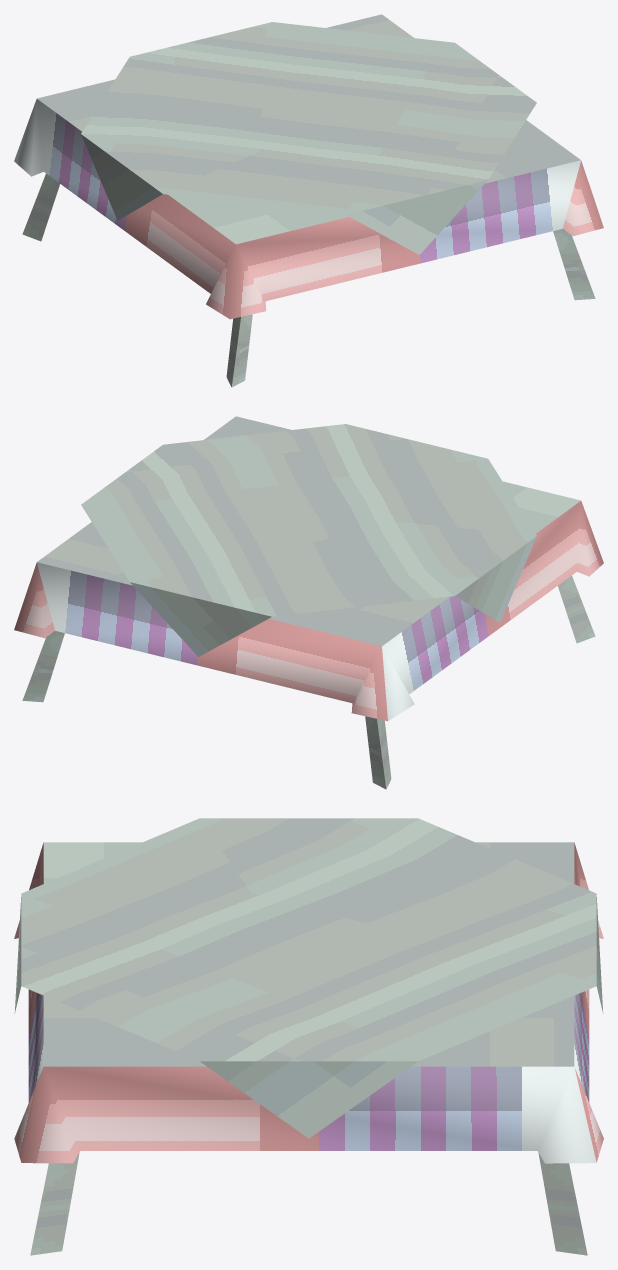
3 views of the same model, one above another, from view 1: azimuth 30°, elevation 25°; view 2: azimuth 150°, elevation 25°; view 3: azimuth 270°, elevation 25° (orthographic). The views are drawn at different scales.
Visible parts, largest first — view 1: 3589kg_02_ta0; view 2: 3589kg_02_ta0; view 3: 3589kg_02_ta0.
Part boxes in pixels (left/top/right/bottom): 3589kg_02_ta0: left=14, top=14, right=603, bottom=387; 3589kg_02_ta0: left=14, top=416, right=603, bottom=789; 3589kg_02_ta0: left=14, top=818, right=603, bottom=1255.
Bounding box in the file's own units: 2 × 0.7388 × 2.
1 material, 1 textured.
